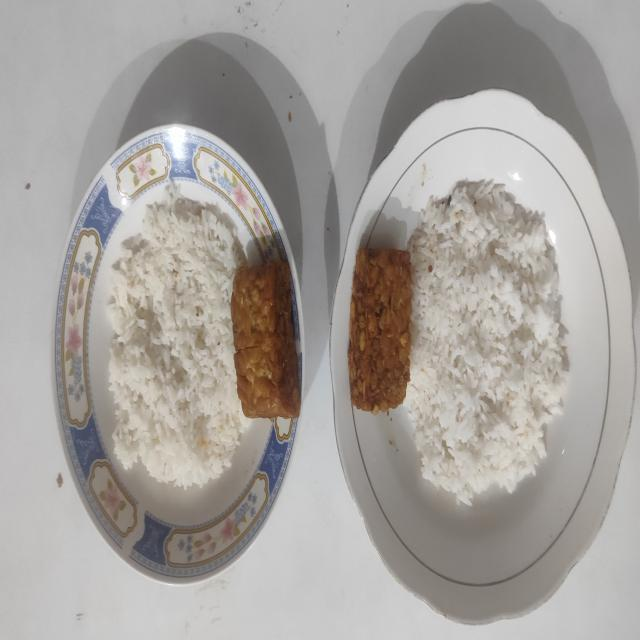nasi_putih: (405, 178, 569, 504), (106, 182, 247, 488)
tempe_goreng: (231, 260, 301, 418), (348, 247, 412, 413)
